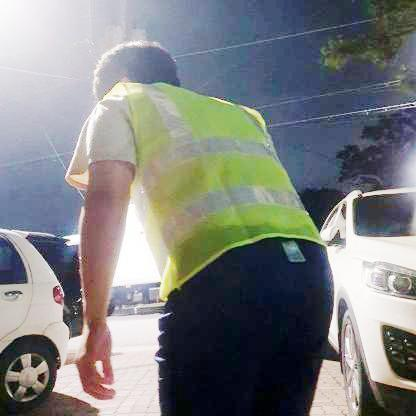no-helmet: (88, 47, 177, 96)
vest: (94, 77, 334, 301)
